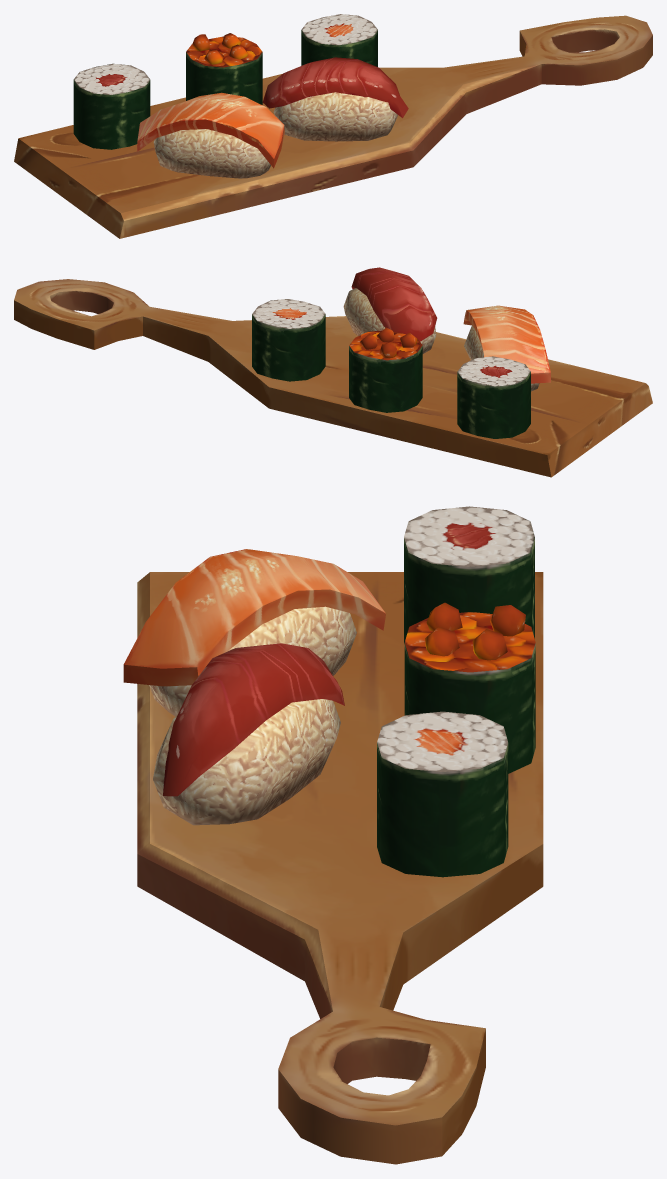
Rendered from sushisSetwithSushis.fbx.
3 renders of one model, top to bottom at view 1: azimuth 30°, elevation 25°; view 2: azimuth 150°, elevation 25°; view 3: azimuth 270°, elevation 25°, orthographic. The views are drawn at different scales.
Visible parts, largest first — view 1: sushisSetwithSushis, Cube.004, Cube.006, Cylinder.010, Cylinder.011, Cylinder.009; view 2: sushisSetwithSushis, Cylinder.011, Cylinder.009, Cylinder.010, Cube.006, Cube.004; view 3: sushisSetwithSushis, Cube.006, Cube.004, Cylinder.009, Cylinder.011, Cylinder.010.
Boxes of the visible parts, bbox=[...] form: sushisSetwithSushis: bbox=[14, 15, 652, 238]; Cube.004: bbox=[136, 92, 284, 178]; Cube.006: bbox=[262, 57, 408, 141]; Cylinder.010: bbox=[73, 63, 150, 149]; Cylinder.011: bbox=[186, 33, 262, 104]; Cylinder.009: bbox=[301, 14, 377, 66]; sushisSetwithSushis: bbox=[14, 279, 652, 477]; Cylinder.011: bbox=[349, 327, 422, 412]; Cylinder.009: bbox=[252, 299, 325, 381]; Cylinder.010: bbox=[457, 356, 530, 438]; Cube.006: bbox=[343, 267, 437, 353]; Cube.004: bbox=[463, 305, 550, 391]; sushisSetwithSushis: bbox=[137, 572, 543, 1164]; Cube.006: bbox=[153, 643, 344, 825]; Cube.004: bbox=[123, 549, 385, 716]; Cylinder.009: bbox=[377, 711, 508, 877]; Cylinder.011: bbox=[404, 602, 535, 773]; Cylinder.010: bbox=[404, 506, 534, 643].
Bounding box in the file's own units: 151 × 23.96 × 48.07.
